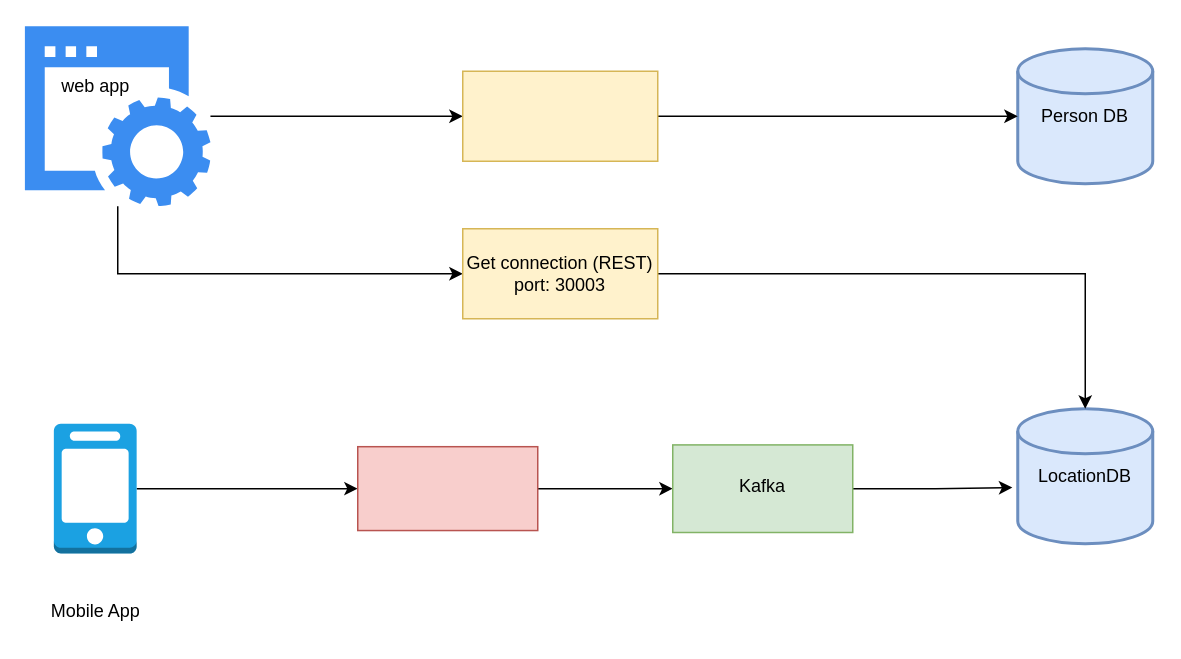
Image size: 1181x659. Some labels were removed from this diagram. Each missing label, with the centre of its shape:
"Get Persons (REST) port: 30000" belongs at (x=559, y=115).
"Post Location (GRPC)" belongs at (x=447, y=488).
